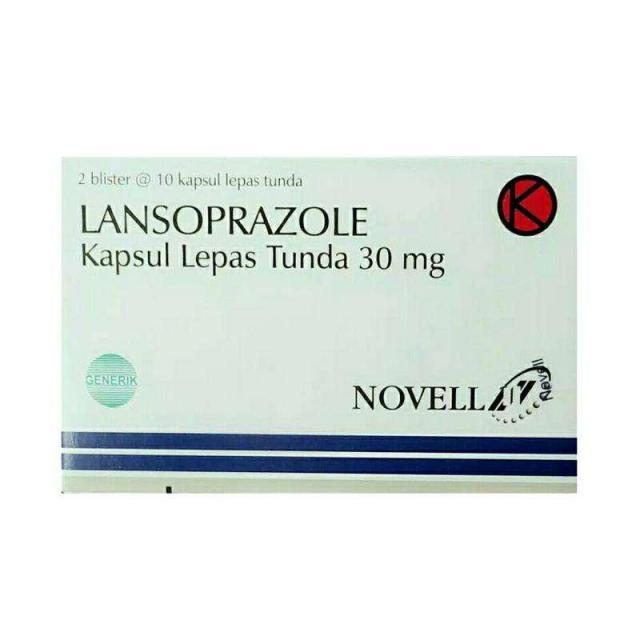drug-name: (73, 200, 370, 241)
